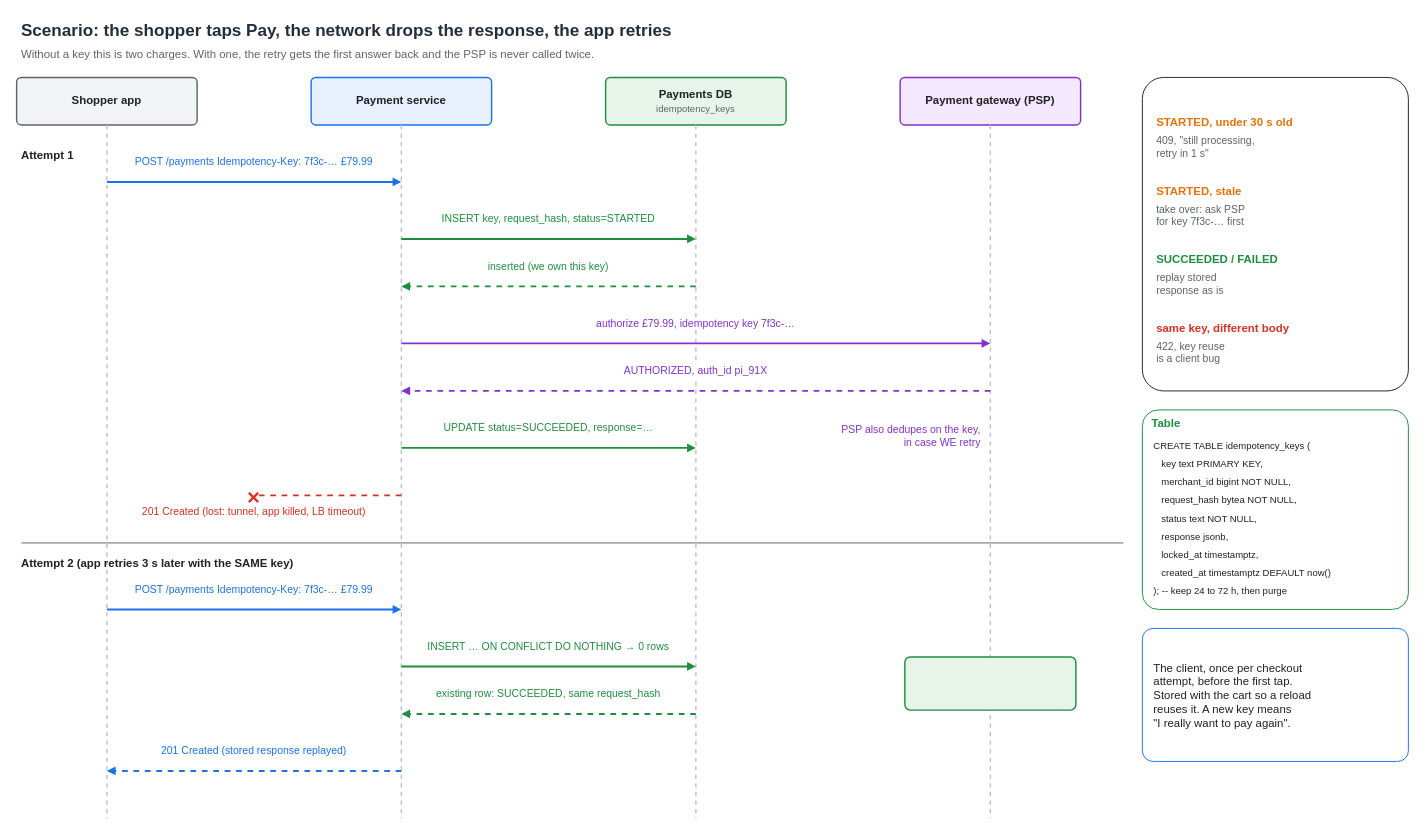
The diagram is 1426 pixels wide and 836 high, and some of its shapes have lost their labels. Each missing label, with the box of its shape:
PSP not called. One charge.: (904, 656, 1076, 710)
What the key row decides: (1141, 76, 1408, 391)
Who makes the key?: (1141, 627, 1408, 761)
